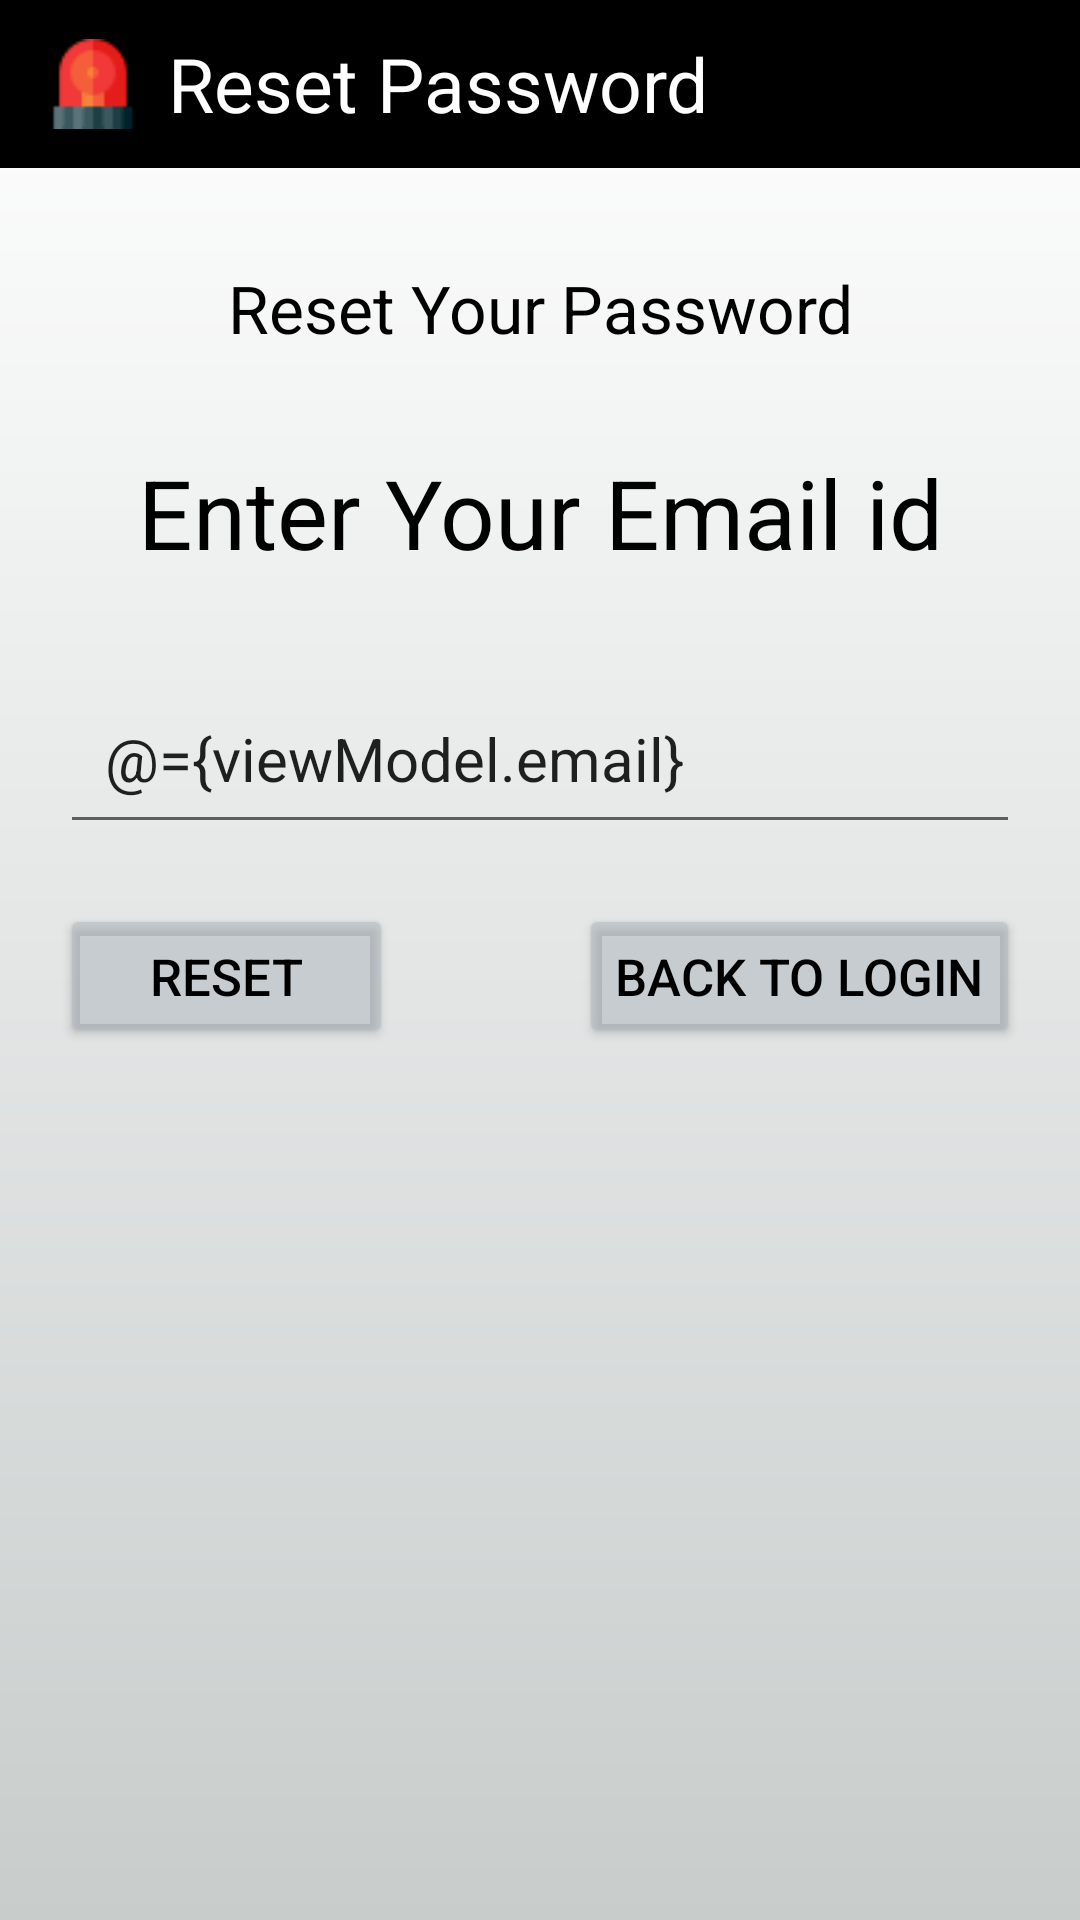

Screen size 1080*1920. Icon name, then its center in pixels as (x=x, y=y):
siren: (x=92, y=84)
